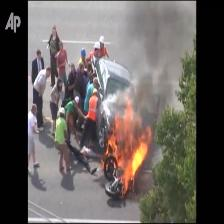fire: (125, 9, 176, 110), (113, 126, 147, 188)
